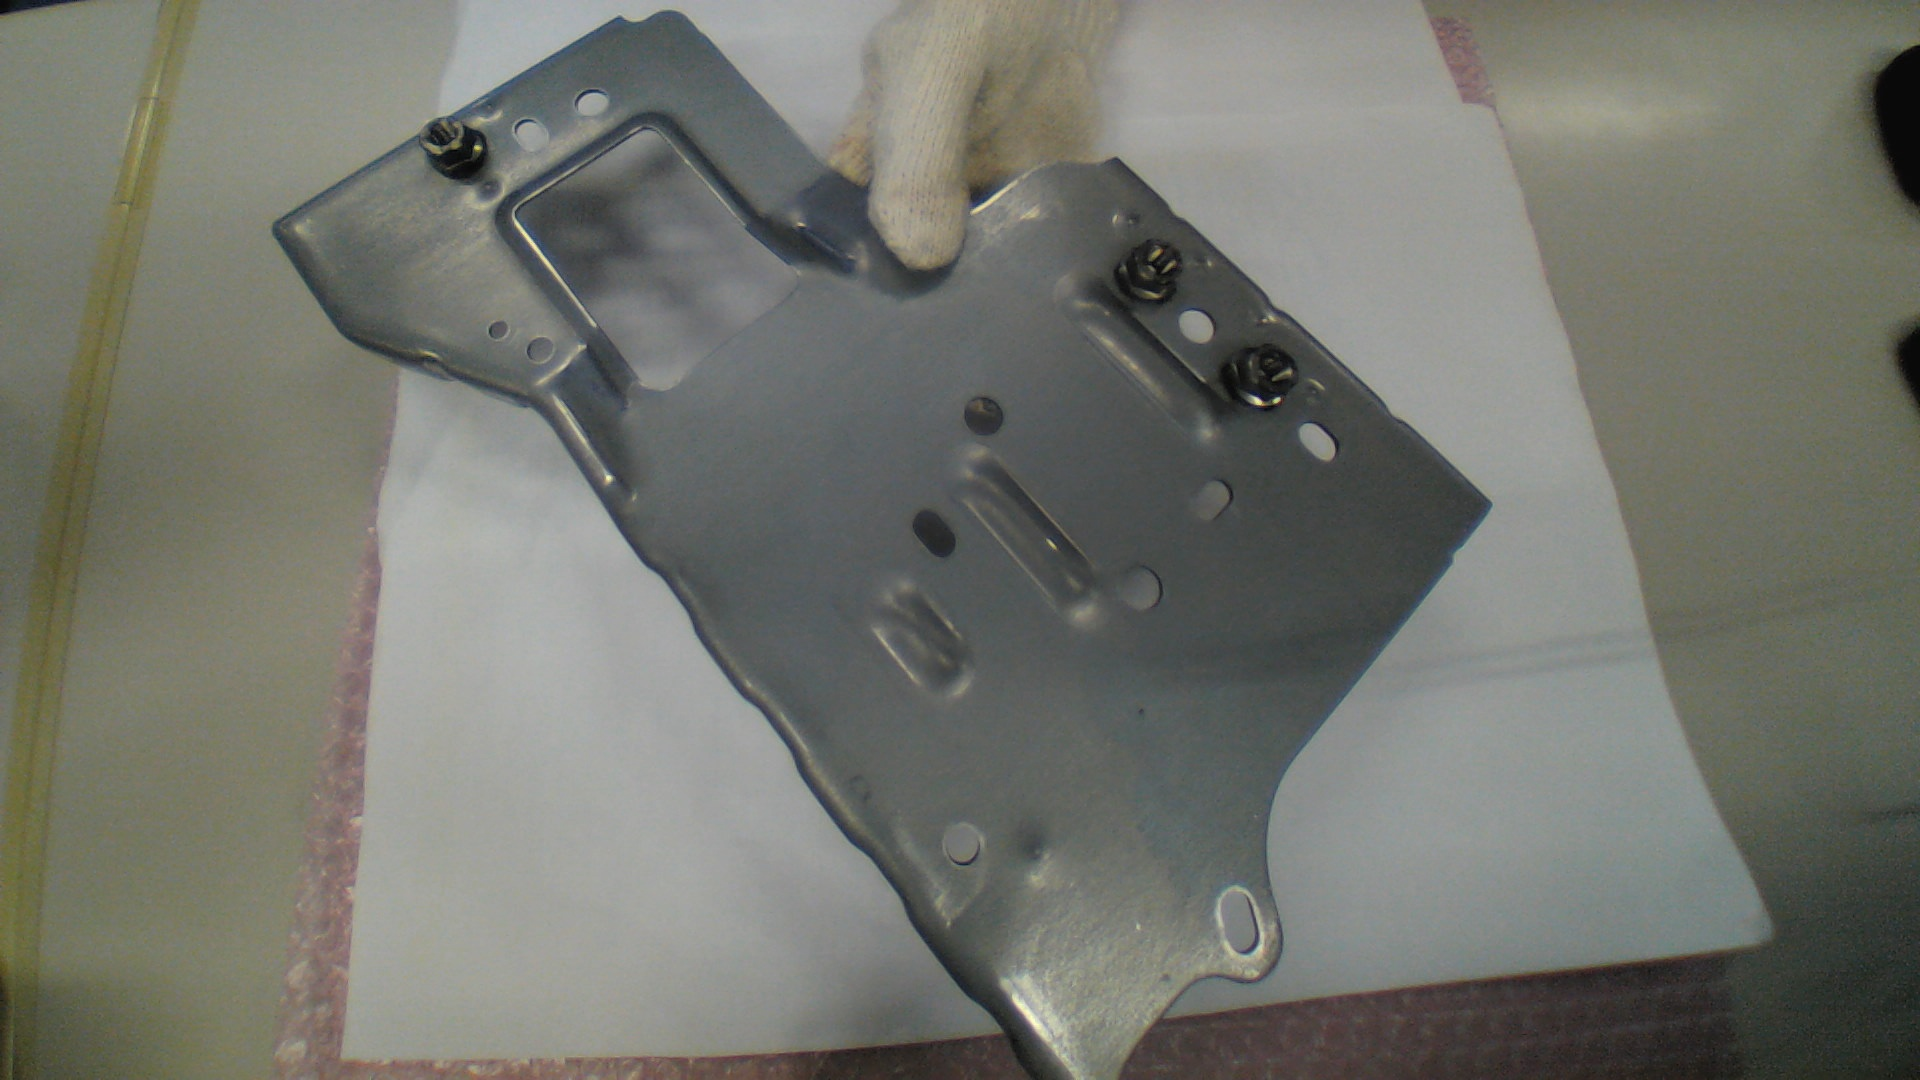dog: (1218, 342, 1298, 411), (421, 117, 491, 182), (1116, 237, 1182, 305)
